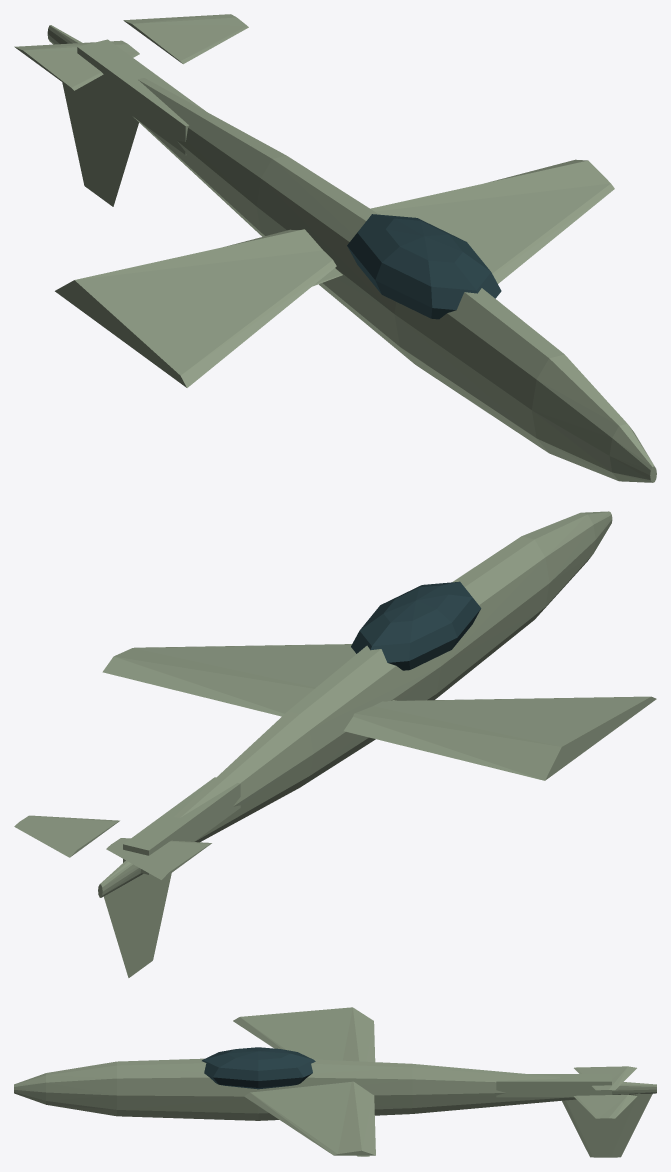
The model's file is jaguar.glb.
3 renders of one model, top to bottom at view 1: azimuth 30°, elevation 25°; view 2: azimuth 150°, elevation 25°; view 3: azimuth 270°, elevation 25°, orthographic. The views are drawn at different scales.
Parts seen in each view (by area): view 1: Fuselage, Wing_L, Wing_R, Cockpit, Rudder, TailBoom, Elevator_R, Elevator_L; view 2: Fuselage, Wing_L, Wing_R, Cockpit, Rudder, TailBoom, Elevator_R, Elevator_L; view 3: Fuselage, Wing_R, Wing_L, Cockpit, Rudder, TailBoom, Elevator_R, Elevator_L.
Boxes of the visible parts, <box> form: Fuselage: <box>47,25,656,482</box>; Wing_L: <box>55,229,336,387</box>; Wing_R: <box>370,159,614,283</box>; Cockpit: <box>347,214,501,319</box>; Rudder: <box>62,82,138,206</box>; TailBoom: <box>77,39,205,154</box>; Elevator_R: <box>123,14,248,64</box>; Elevator_L: <box>14,40,139,90</box>; Fuselage: <box>98,511,612,897</box>; Wing_L: <box>344,696,656,780</box>; Wing_R: <box>102,644,356,716</box>; Cockpit: <box>351,581,481,670</box>; Rudder: <box>103,873,171,977</box>; TailBoom: <box>123,777,240,874</box>; Elevator_R: <box>14,815,119,857</box>; Elevator_L: <box>106,838,211,879</box>; Fuselage: <box>14,1058,656,1120</box>; Wing_R: <box>244,1081,375,1155</box>; Wing_L: <box>233,1007,375,1061</box>; Cockpit: <box>202,1047,315,1089</box>; Rudder: <box>562,1093,652,1157</box>; TailBoom: <box>496,1074,611,1097</box>; Elevator_R: <box>574,1094,637,1118</box>; Elevator_L: <box>574,1066,636,1090</box>.
Size of the model in its own units: 8.35 by 3.04 by 16.7.
